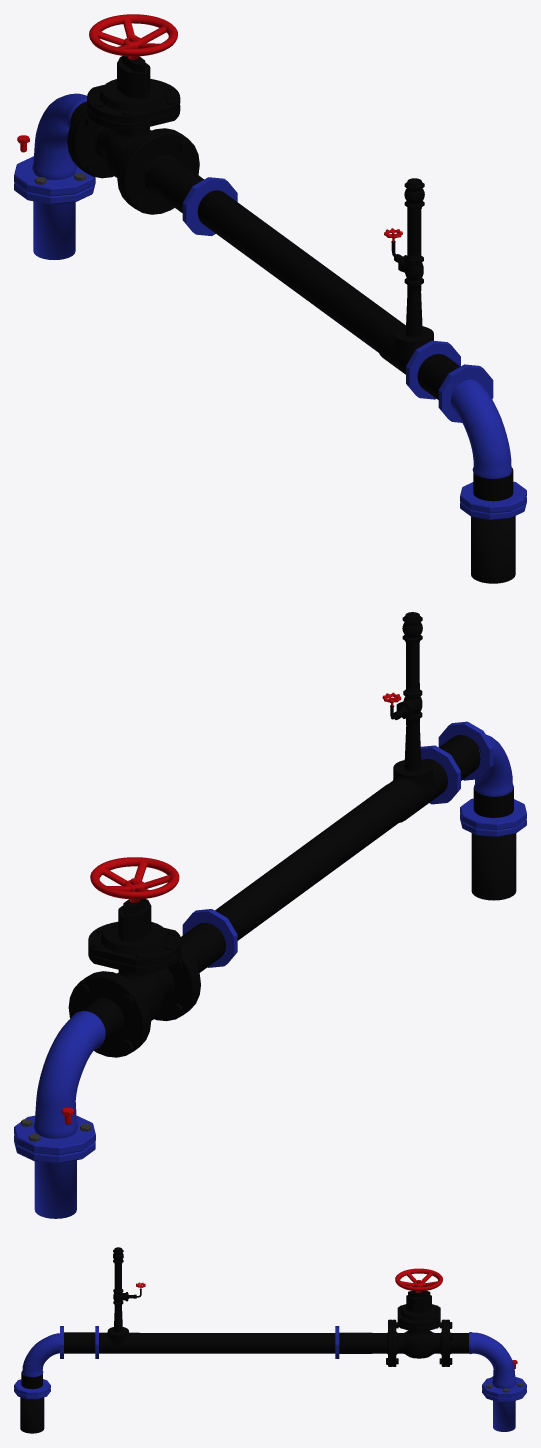
The model's file is A - Tuberia intractiva .fbx.
The picture shows the model from 3 angles, top to bottom: view 1: azimuth 30°, elevation 25°; view 2: azimuth 150°, elevation 25°; view 3: azimuth 270°, elevation 25°; orthographic projection. The views are drawn at different scales.
Parts seen in each view (by area): view 1: pipe_thin_valve_1_pvc.001, pipe_valve_large_metal.001; view 2: pipe_thin_valve_1_pvc.001, pipe_valve_large_metal.001; view 3: pipe_thin_valve_1_pvc.001, pipe_valve_large_metal.001.
Part boxes in pixels (<box>): pipe_thin_valve_1_pvc.001: <box>14,56,526,583</box>; pipe_valve_large_metal.001: <box>89,14,177,59</box>; pipe_thin_valve_1_pvc.001: <box>14,612,526,1218</box>; pipe_valve_large_metal.001: <box>90,857,179,902</box>; pipe_thin_valve_1_pvc.001: <box>14,1247,526,1433</box>; pipe_valve_large_metal.001: <box>395,1268,442,1292</box>.
Bounding box in the file's own units: 40.59 × 161 × 415.
